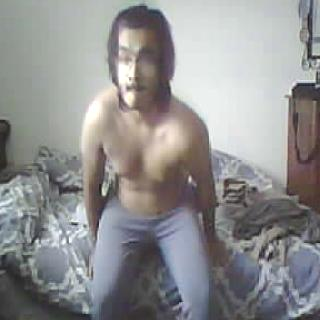Blue Sweatpants: (93, 204, 208, 320)
